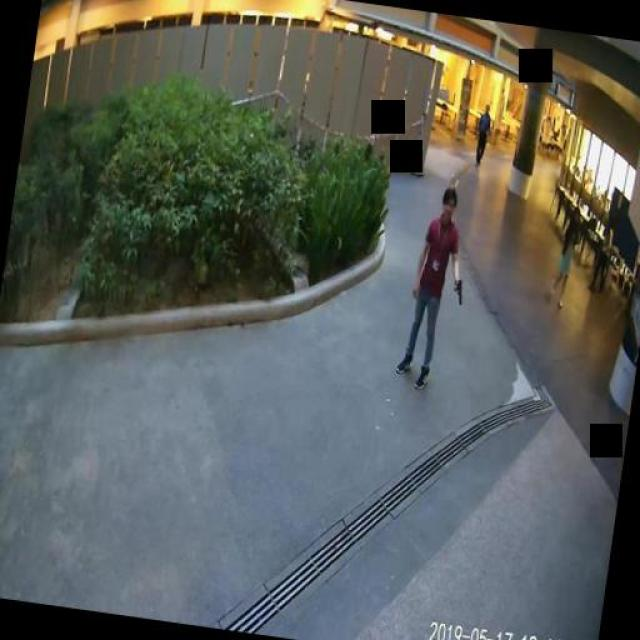gun: (450, 279, 464, 305)
